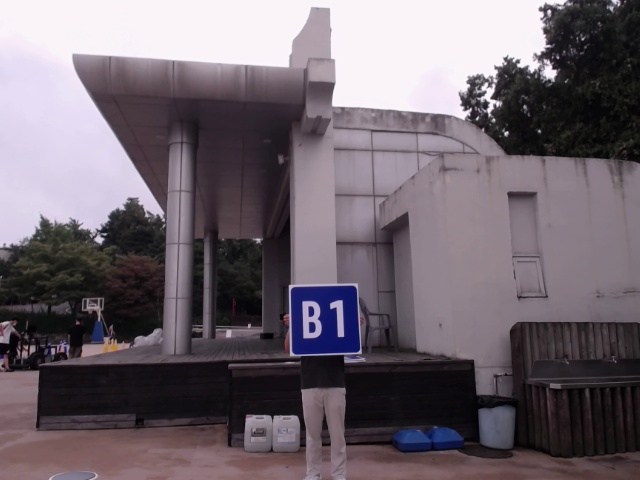delivery_b1: (289, 284, 362, 356)
